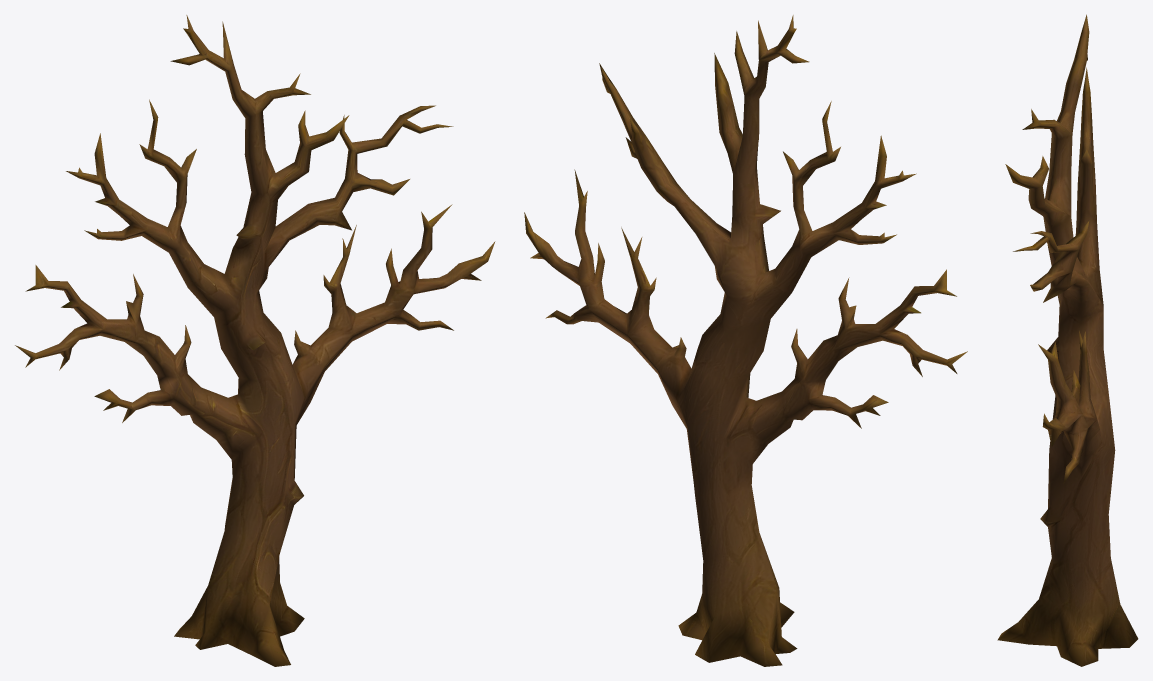
The model's file is Arbolito_sin_hojas.glb.
The picture shows the model from 3 angles, left to right: view 1: azimuth 30°, elevation 25°; view 2: azimuth 150°, elevation 25°; view 3: azimuth 270°, elevation 25°; orthographic projection. The views are drawn at different scales.
Visible parts, largest first — view 1: tripo_node_8c702915-04a5-4c56-ab3b-fbbeb1f704c2; view 2: tripo_node_8c702915-04a5-4c56-ab3b-fbbeb1f704c2; view 3: tripo_node_8c702915-04a5-4c56-ab3b-fbbeb1f704c2.
Part boxes in pixels (x1,y1,x2,y2): tripo_node_8c702915-04a5-4c56-ab3b-fbbeb1f704c2: (15,15,495,666); tripo_node_8c702915-04a5-4c56-ab3b-fbbeb1f704c2: (524,15,967,666); tripo_node_8c702915-04a5-4c56-ab3b-fbbeb1f704c2: (997,14,1138,666).
Size of the model in its own units: 0.7598 by 0.998 by 0.2129.
1 material, 1 textured.
